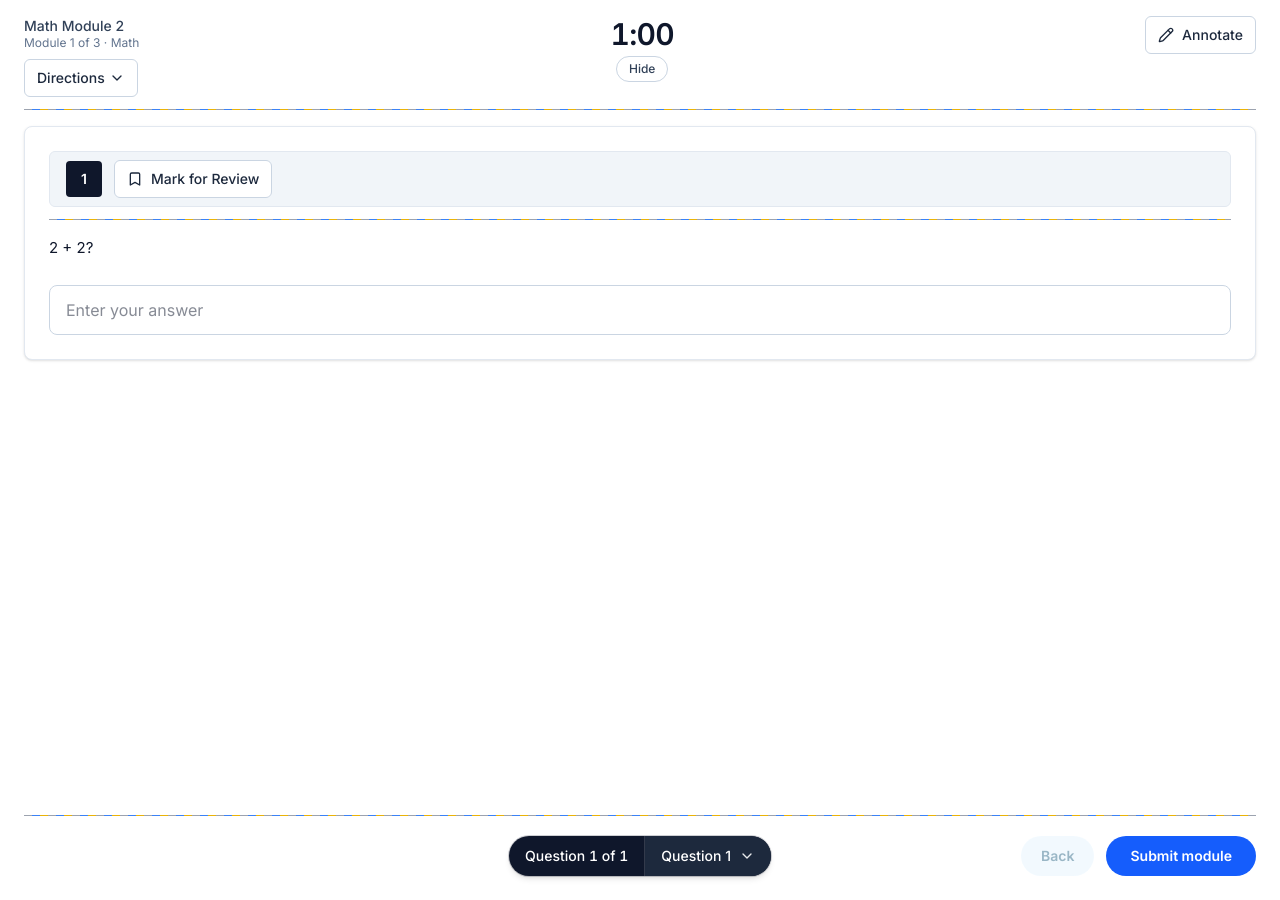
Test case: module expiry during a slow manual save advances only once
The image size is (1280, 900).
Click the button "Submit module" at (1181, 856), box [1106,836,1256,876]
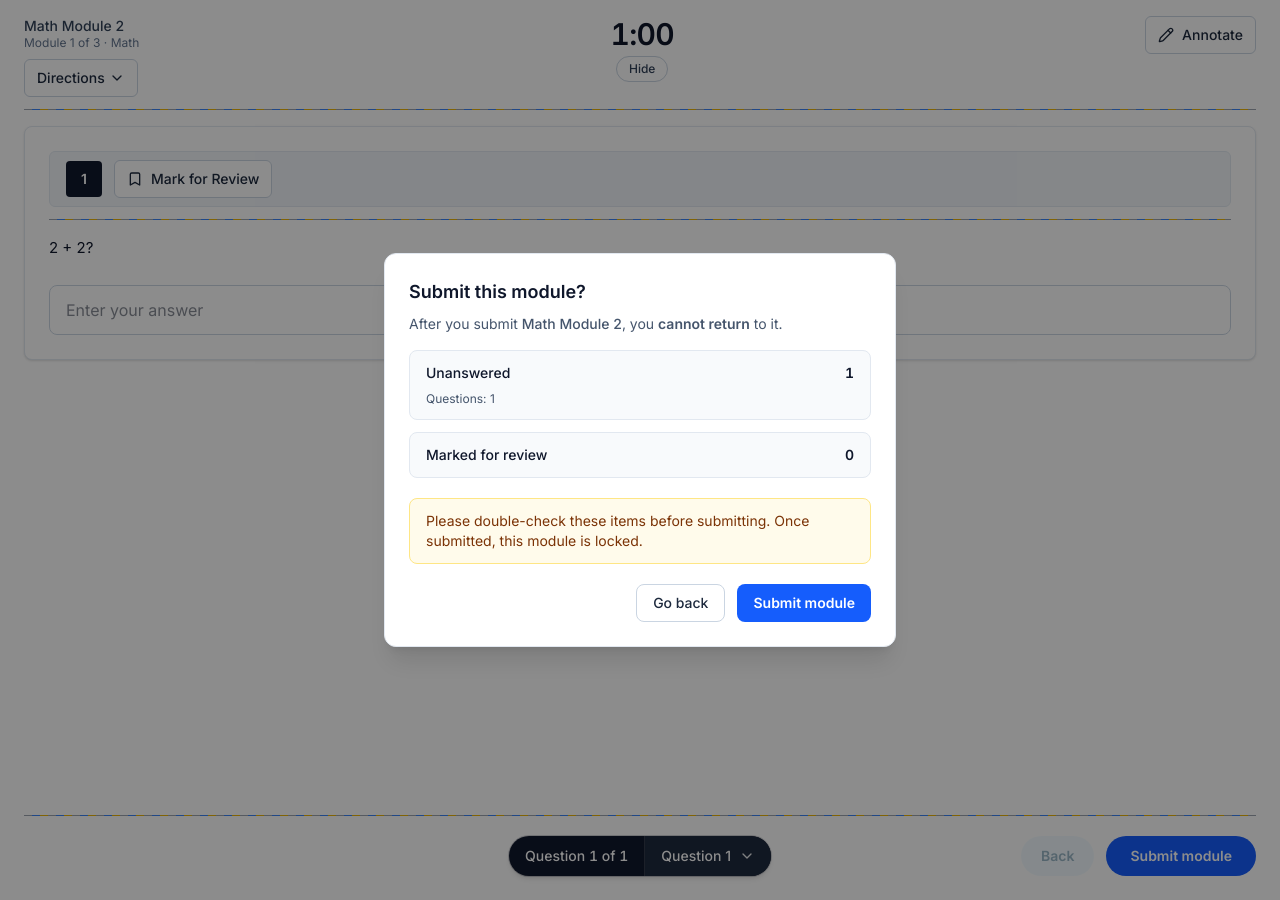
Click the button "Submit module" at (804, 603), box [738,584,871,622]
Wait 61000 ms
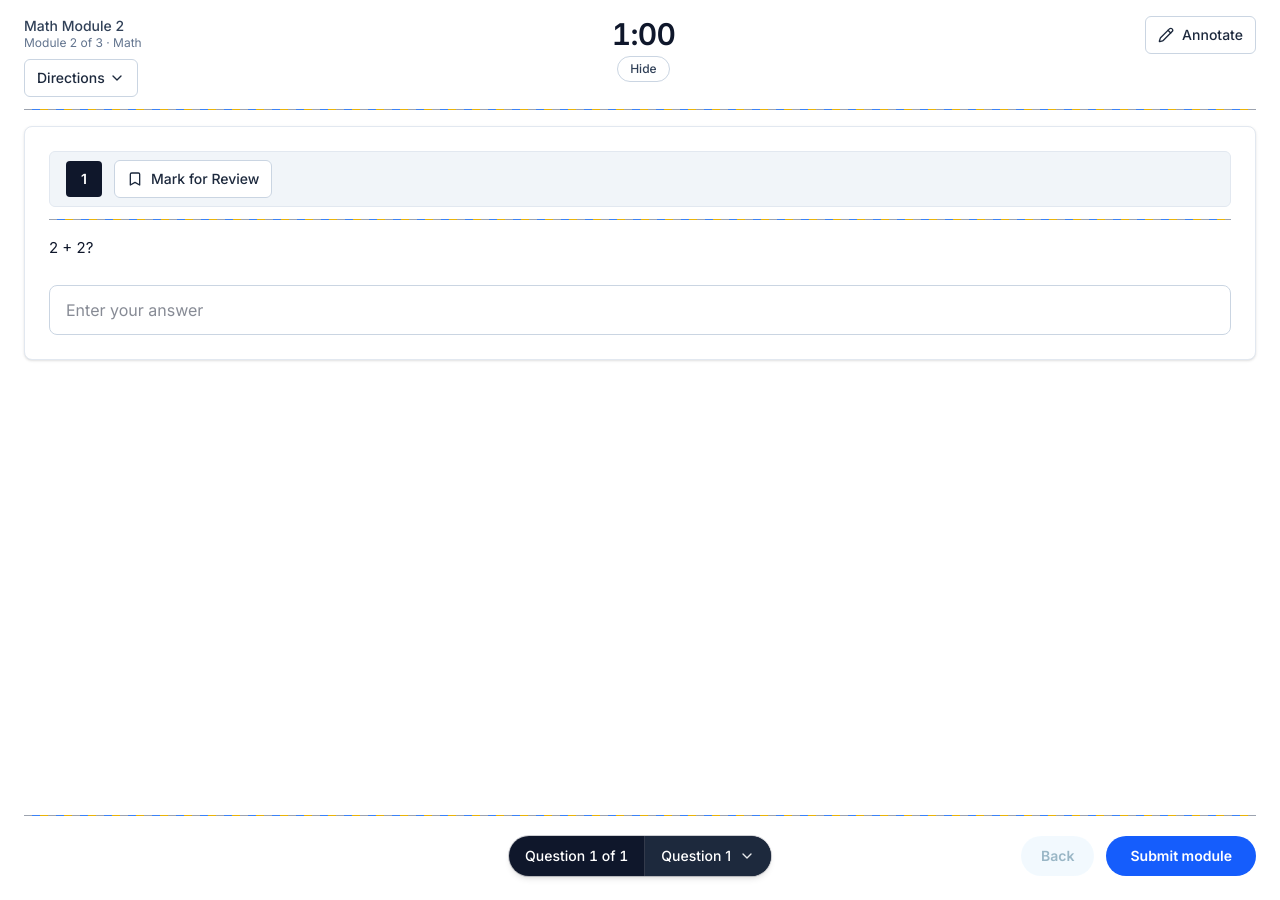
Expected: the text "Module 2 of 3" is shown, [24,35,142,51]
